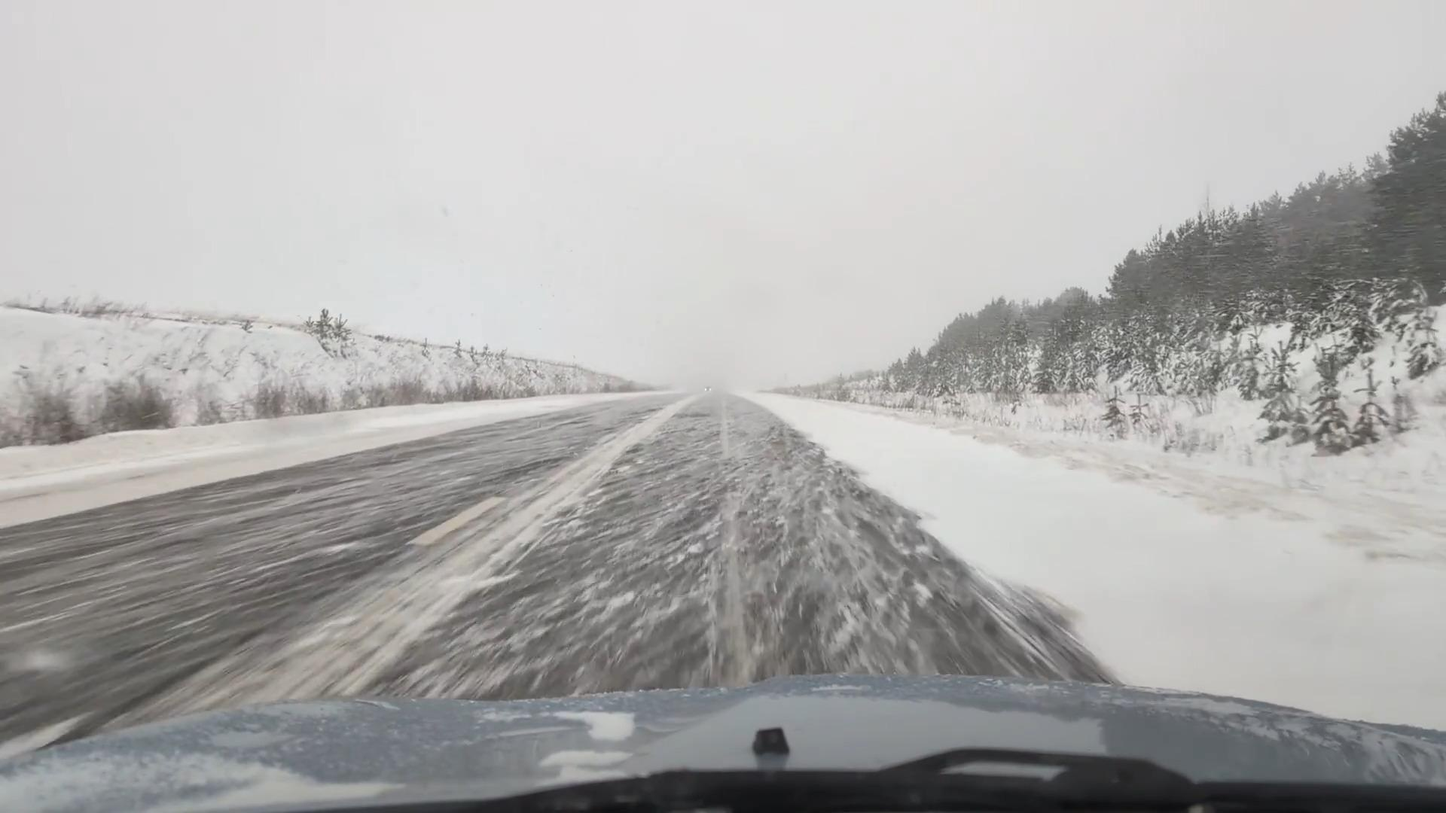Snow: (0, 387, 1445, 752)
